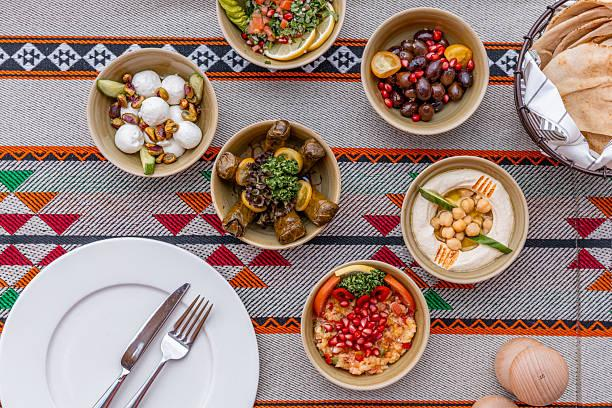Braised Crucian Carp: (509, 1, 609, 178), (86, 48, 217, 178), (361, 7, 491, 137), (301, 260, 428, 391), (210, 120, 338, 248), (402, 155, 530, 281), (215, 0, 346, 70)
